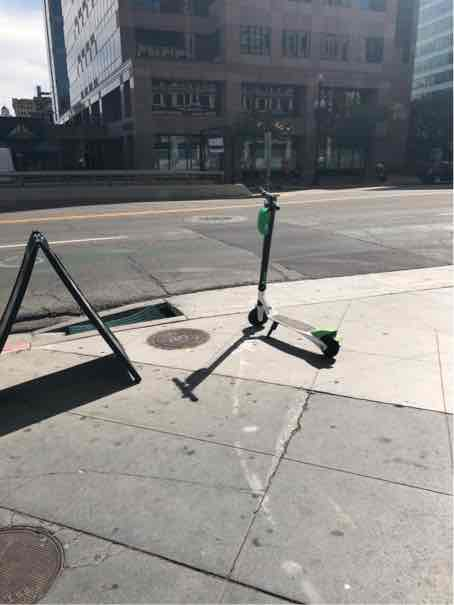scooter: (243, 183, 344, 380)
